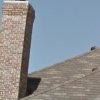Chimney: (1, 3, 41, 100)
